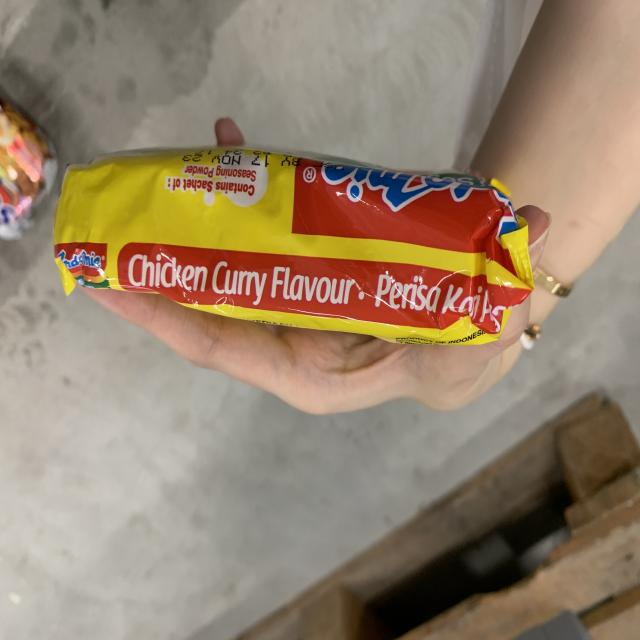object_name: (68, 152, 511, 339)
